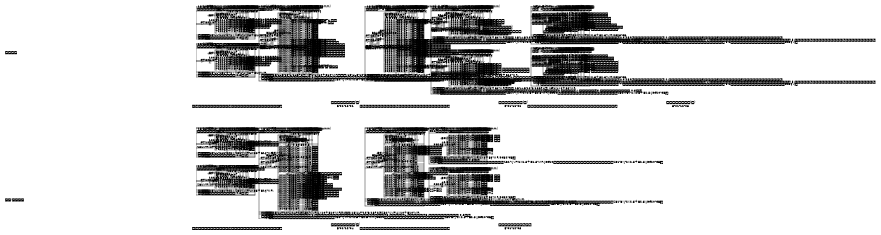wall: (200, 49, 208, 86), (437, 49, 444, 86)
